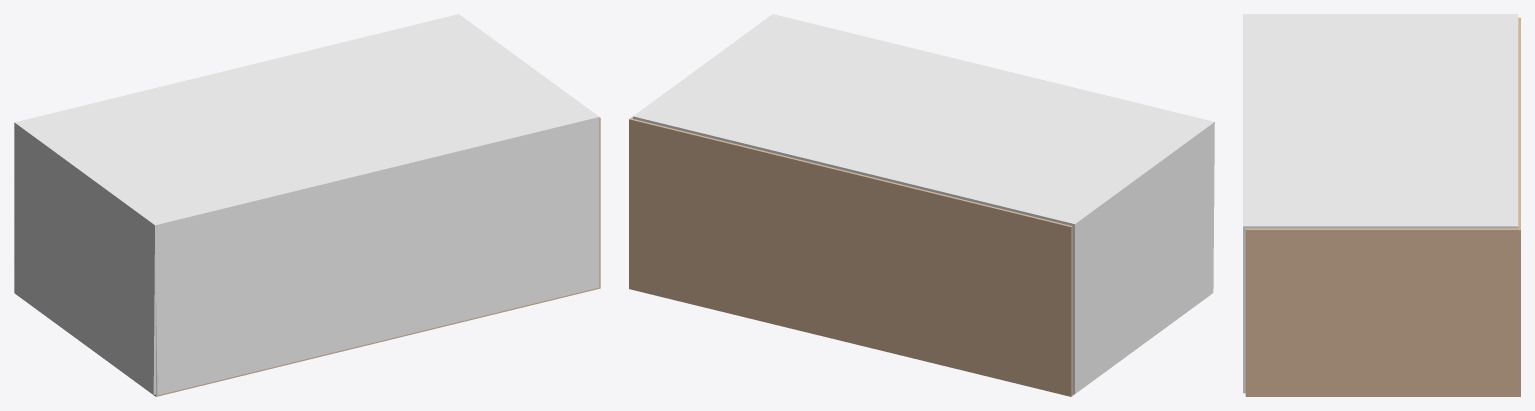
File: bedroom.fbx
3 renders of one model, left to right at view 1: azimuth 30°, elevation 25°; view 2: azimuth 150°, elevation 25°; view 3: azimuth 270°, elevation 25°, orthographic. The views are drawn at different scales.
Visible parts, largest first — view 1: Room Walls Transparent, Room outline; view 2: Room Walls Transparent, Room outline; view 3: Room Walls Transparent, Room outline.
Part boxes in pixels (box(x1,y1,x2,y2)): Room Walls Transparent: box(14, 14, 599, 395); Room outline: box(17, 117, 600, 396); Room Walls Transparent: box(633, 14, 1214, 393); Room outline: box(629, 117, 1208, 396); Room Walls Transparent: box(1243, 14, 1518, 393); Room outline: box(1245, 17, 1520, 396).
Size of the model in its own units: 2224 by 824 by 1224.
